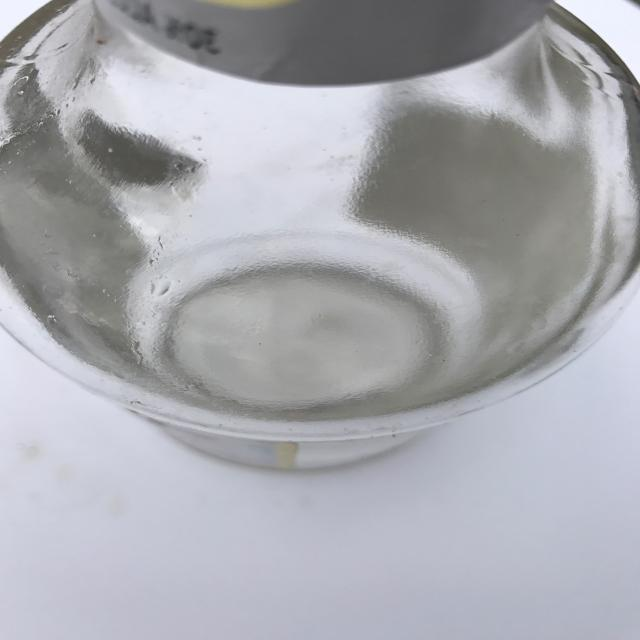glass: (0, 0, 640, 471)
